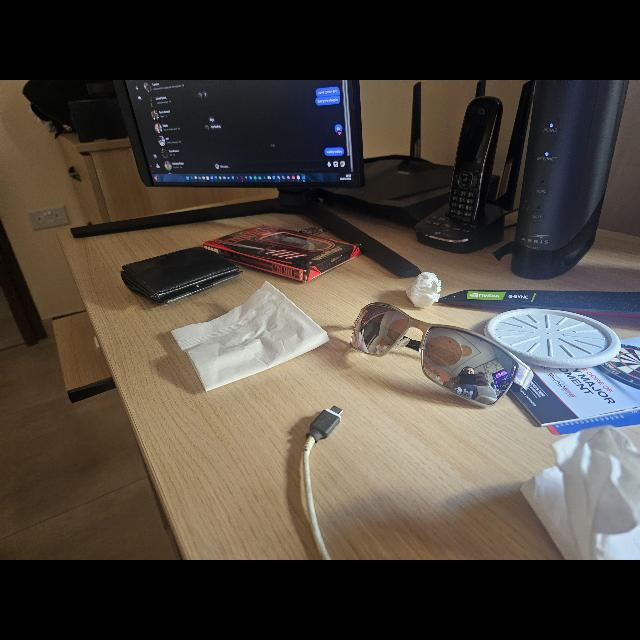Sunglasses: (351, 302, 533, 406)
Wallet: (120, 246, 242, 304)
